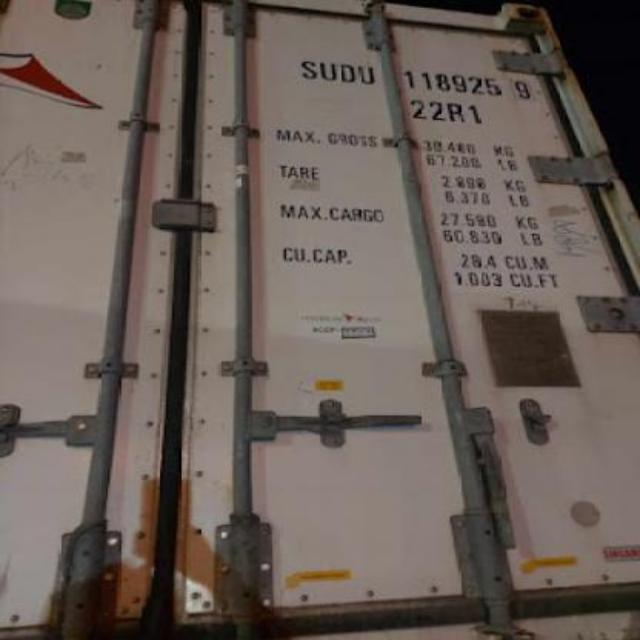1: (418, 61, 436, 91), (402, 62, 418, 90)
2: (468, 64, 484, 96)
5: (484, 69, 504, 99)
8: (436, 68, 452, 94)
9: (510, 74, 534, 100), (452, 67, 468, 97)
D: (340, 54, 356, 86)
S: (298, 52, 318, 84)
U: (357, 56, 378, 90), (318, 54, 338, 82)
